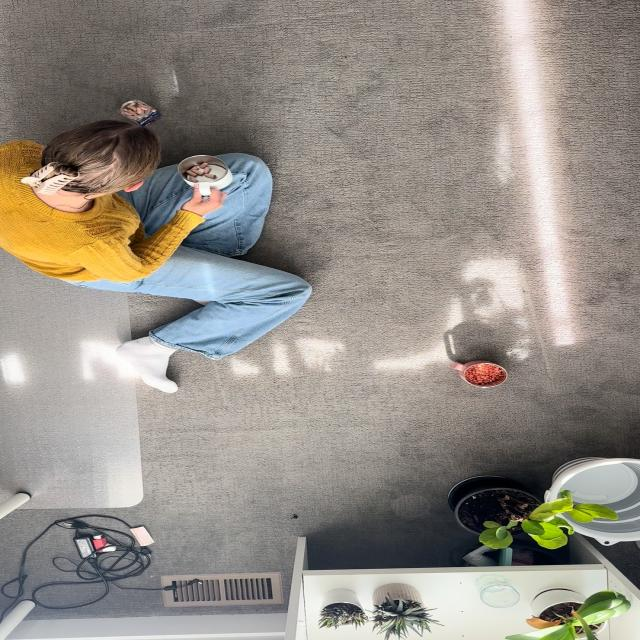IBC: (177, 154, 232, 196), (451, 360, 507, 388)
